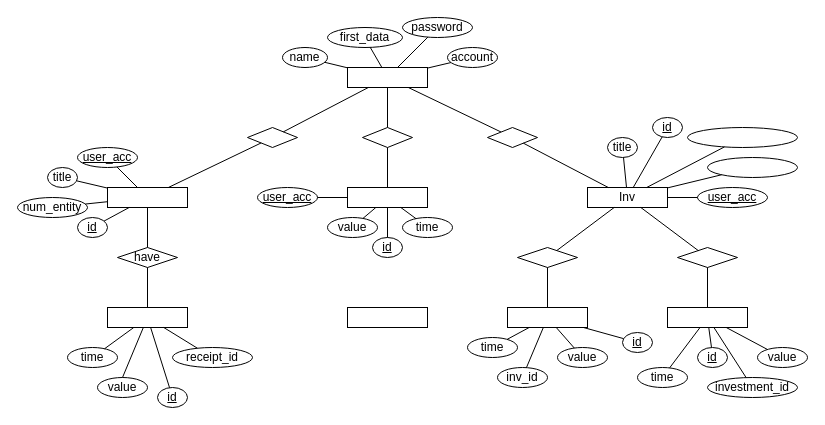
This 825x425 diagram has some shape labels left out. The shapes that lost their labels are listed below. From the top down, each one's centre as x and y in pixels, then its label:
(x=387, y=77): user
(x=742, y=137): num_expenditure
(x=752, y=167): num_receipt
(x=147, y=197): Rcpt
(x=387, y=197): Expnd
(x=147, y=317): Rcpt_ent
(x=387, y=317): Expnd_ent
(x=547, y=317): Inv_rcpt
(x=707, y=317): Inv_expnd
